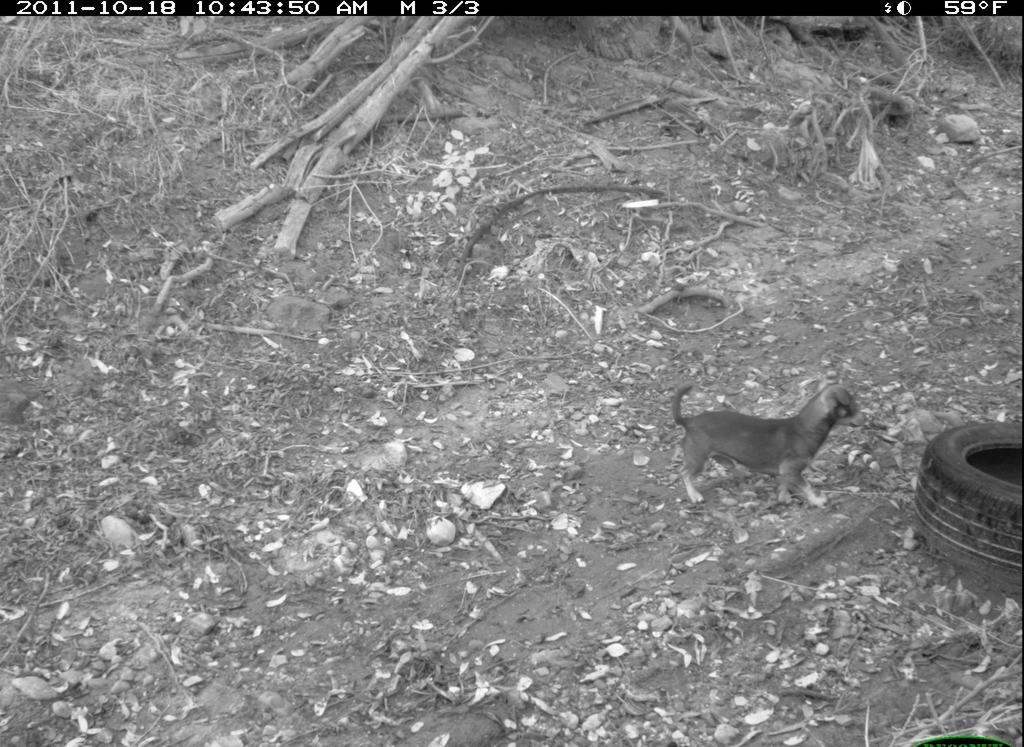dog: (667, 354, 871, 523)
